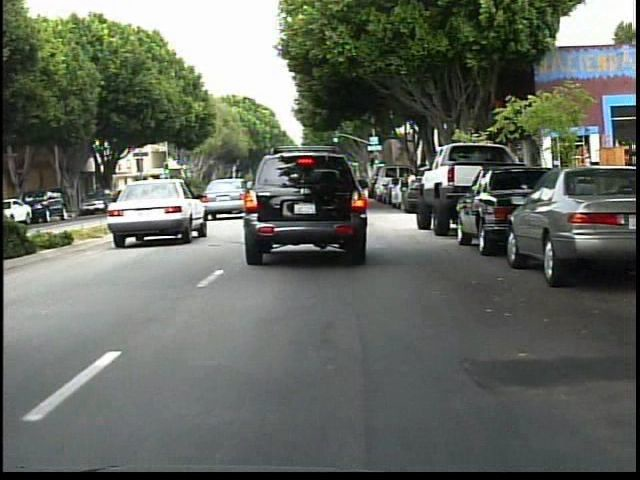person: (396, 166, 409, 215)
